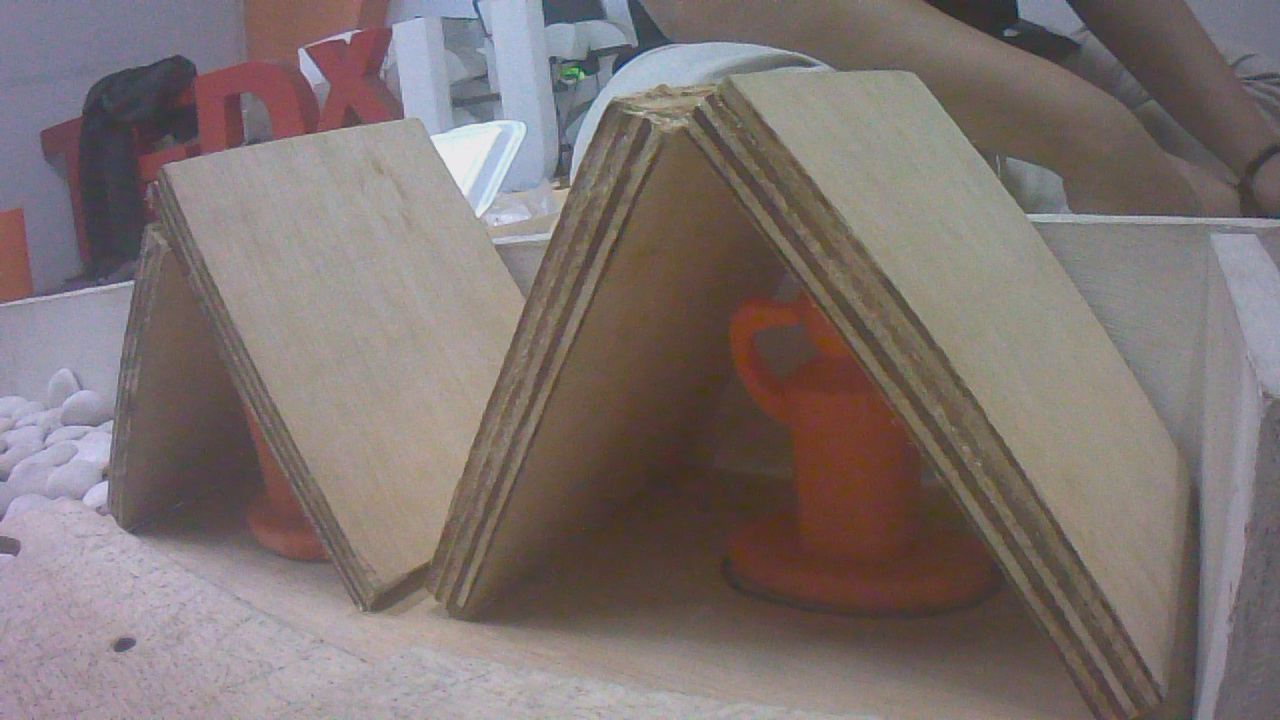real: (716, 288, 978, 622)
